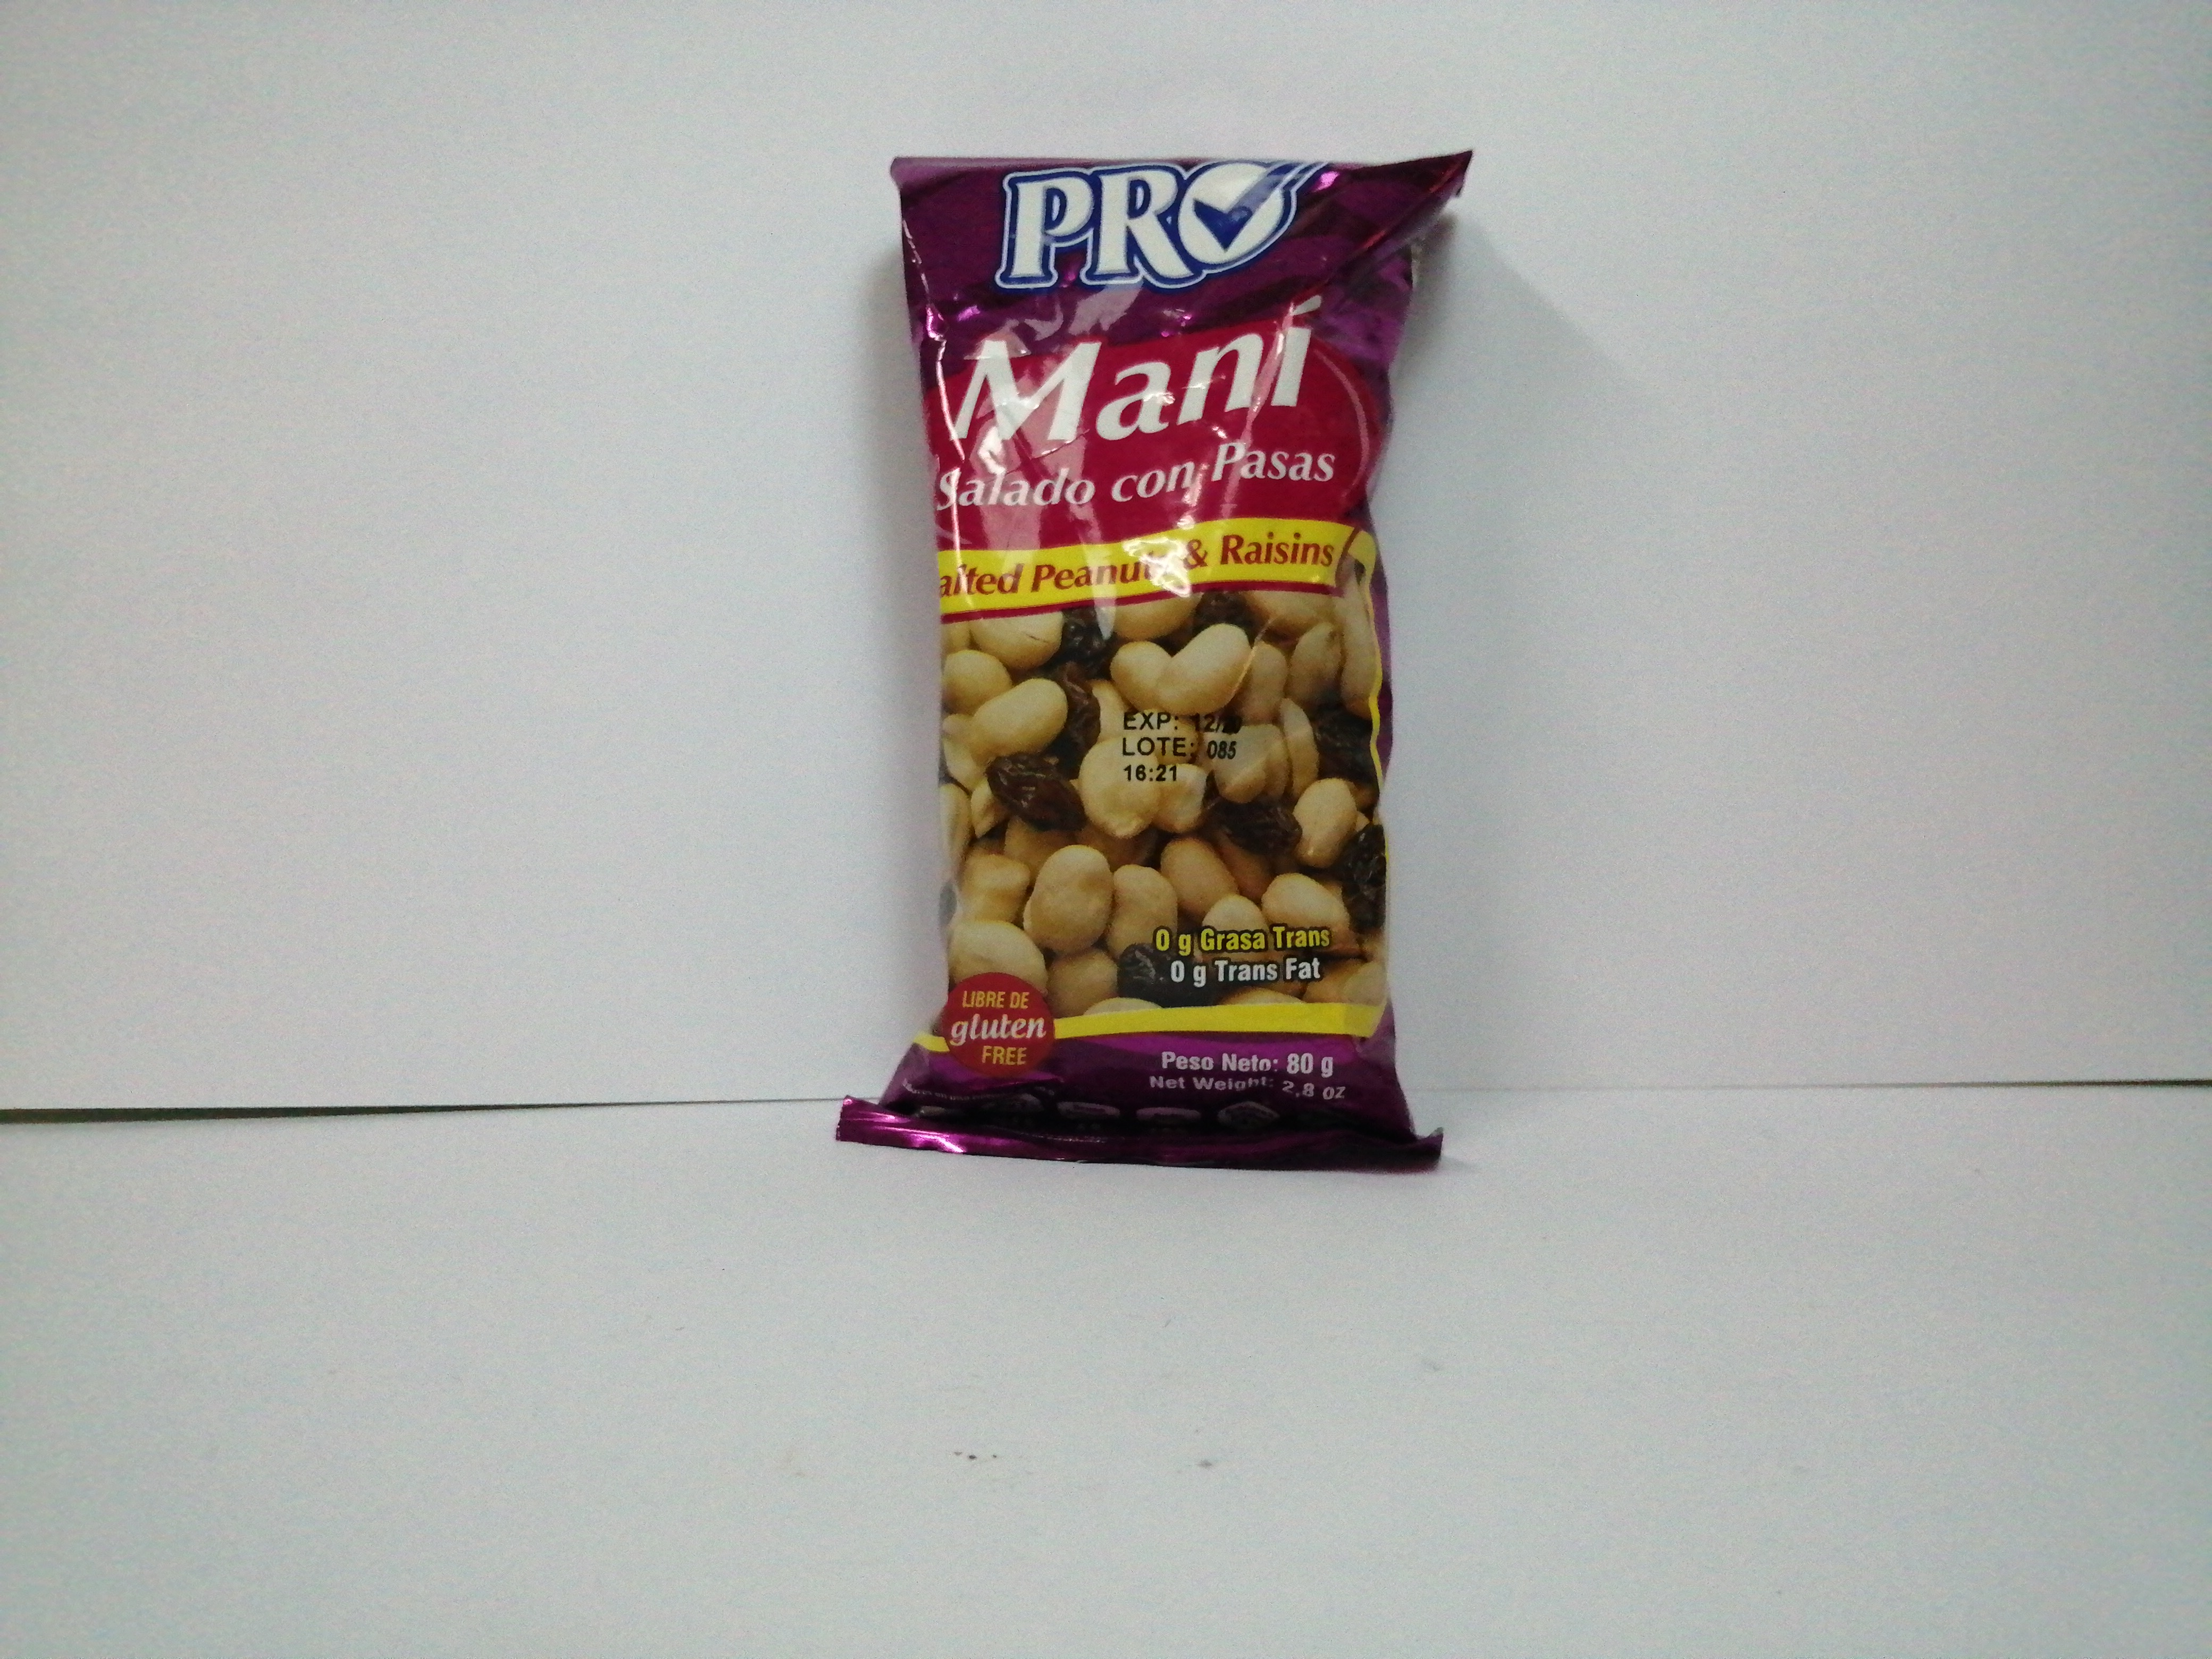mani: (827, 160, 1468, 1169)
